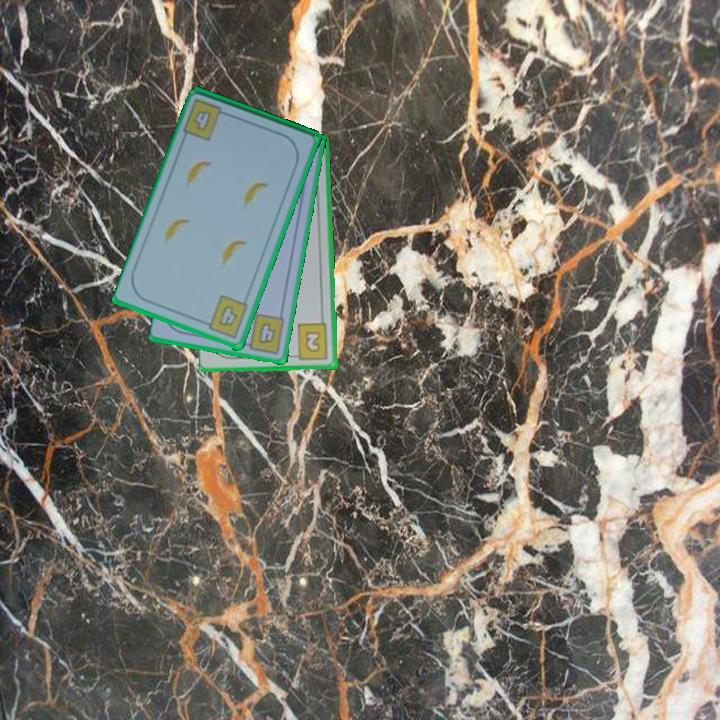2b: (289, 320, 331, 363)
4b: (199, 292, 251, 342), (180, 95, 233, 144), (239, 310, 288, 356)
